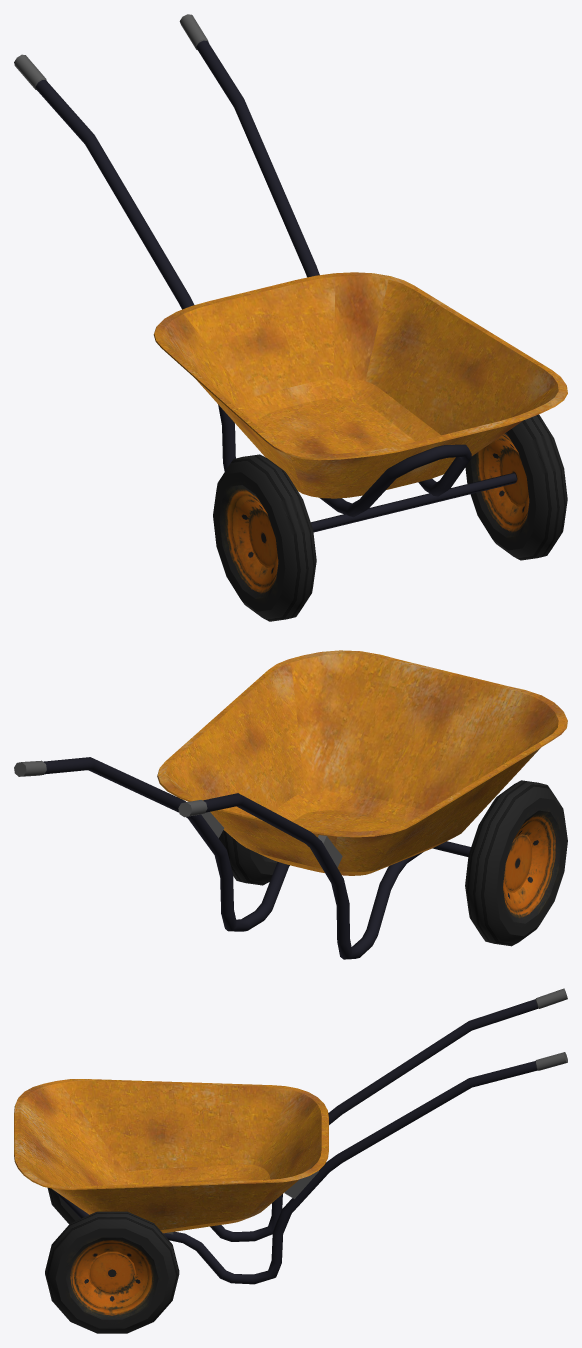
3 renders of one model, top to bottom at view 1: azimuth 30°, elevation 25°; view 2: azimuth 150°, elevation 25°; view 3: azimuth 270°, elevation 25°, orthographic. The views are drawn at different scales.
Visible parts, largest first — view 1: Body 1, Wheel_ F; view 2: Body 1, Wheel_ F; view 3: Body 1, Wheel_ F.
Part boxes in pixels (<box>): Body 1: <box>14,14,567,532</box>; Wheel_ F: <box>213,414,567,621</box>; Body 1: <box>14,650,567,959</box>; Wheel_ F: <box>219,780,567,946</box>; Body 1: <box>14,988,567,1284</box>; Wheel_ F: <box>45,1188,179,1333</box>.
Bounding box in the file's own units: 8.17 × 9.16 × 17.39.
1 material, 1 textured.
